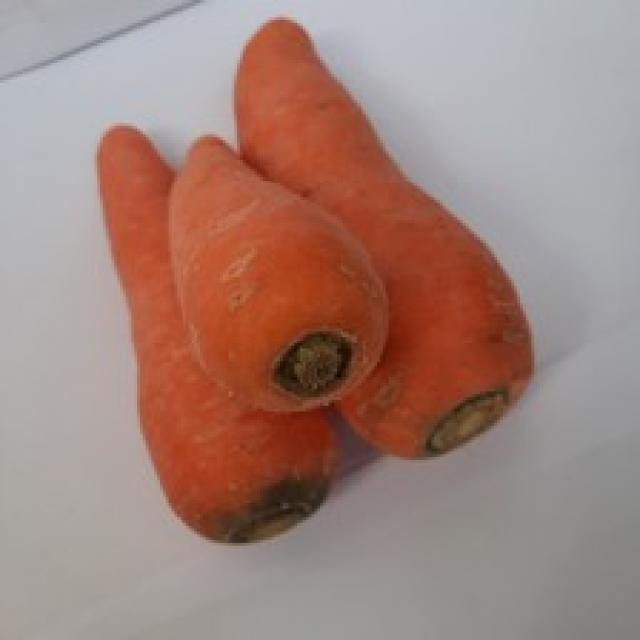Fresh_Carrot: (241, 16, 547, 458), (149, 133, 398, 401)
